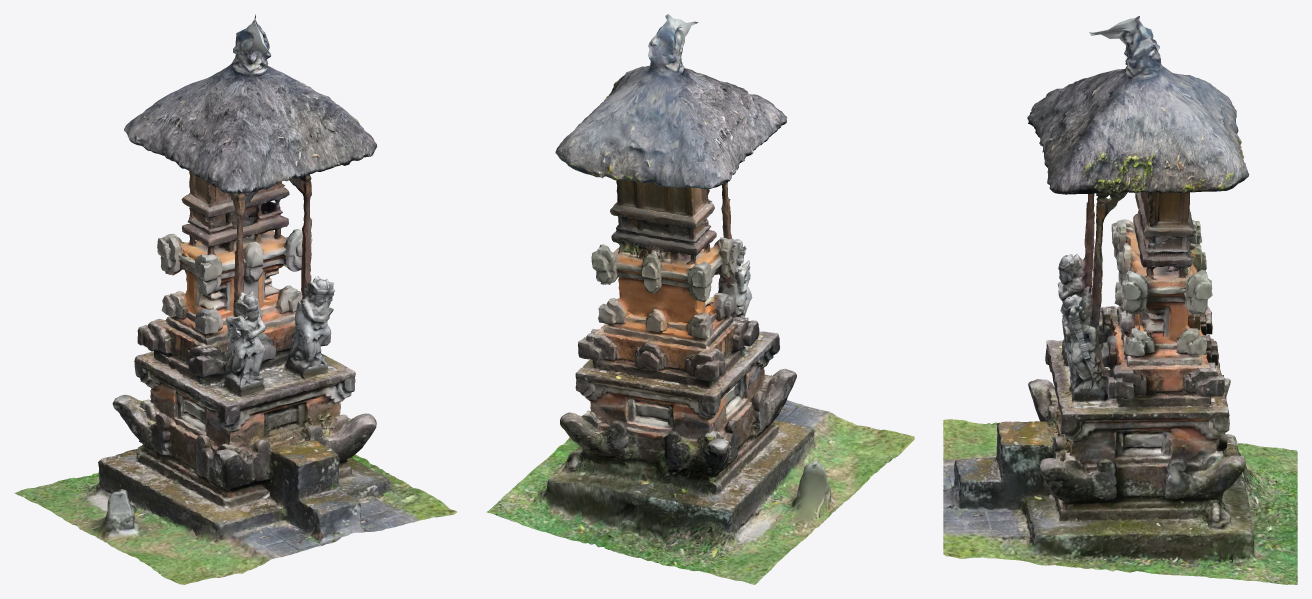
The model's file is artefak_rong_tiga_bali.glb.
The picture shows the model from 3 angles, left to right: view 1: azimuth 30°, elevation 25°; view 2: azimuth 150°, elevation 25°; view 3: azimuth 270°, elevation 25°; orthographic projection. The views are drawn at different scales.
Visible parts, largest first — view 1: Object_4; view 2: Object_4; view 3: Object_4.
Boxes of the visible parts, box(x1,y1,x2,y2) form: Object_4: box(14, 14, 456, 584); Object_4: box(486, 14, 914, 584); Object_4: box(943, 16, 1297, 584).
Bounding box in the file's own units: 2.43 × 4.16 × 2.55.
1 material, 1 textured.
